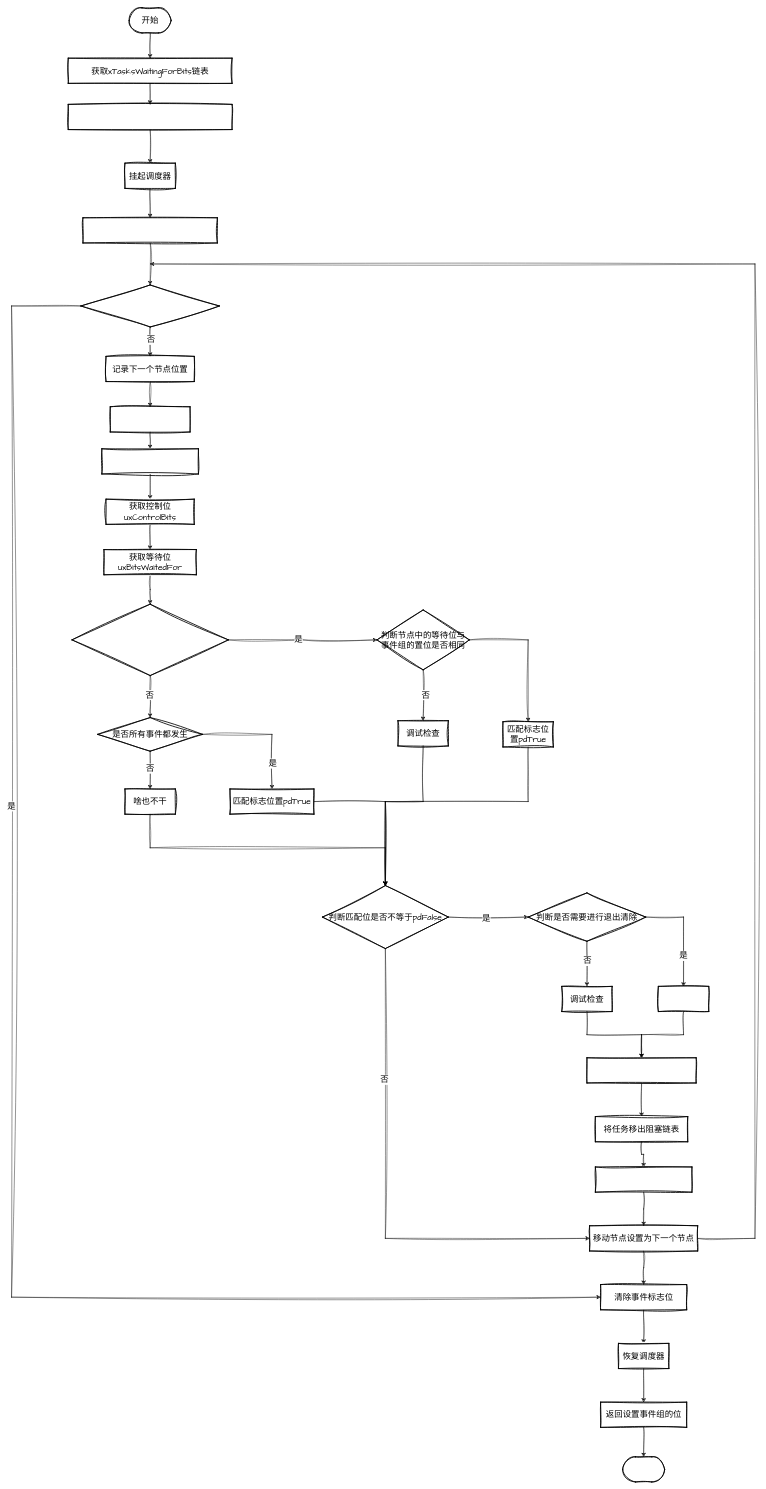
This 766x1489 diagram has some shape labels left out. The box of each missing label's shape, as (x1, y1, x2, y2) in pixels:
初始化移动节点为链表xTasksWaitingForBits头部节点: (82, 217, 218, 243)
判断事件组控制的标志信息（uxControlBits ）是否为“逻辑或”关系: (71, 604, 229, 676)
判断移动节点是否等于尾部节点: (80, 284, 220, 327)
匹配标志位置pdFalse: (101, 448, 199, 474)
将任务加入ReadyList: (595, 1166, 692, 1192)
找到链表xTasksWaitingForBits尾部节点: (68, 104, 232, 130)
清除所有事件组等待位: (658, 986, 709, 1012)
结束: (622, 1456, 665, 1482)
获取链表节点中事件组等待的位: (110, 406, 190, 432)
记录下任务状态为事件组位匹配成功: (586, 1057, 696, 1083)
